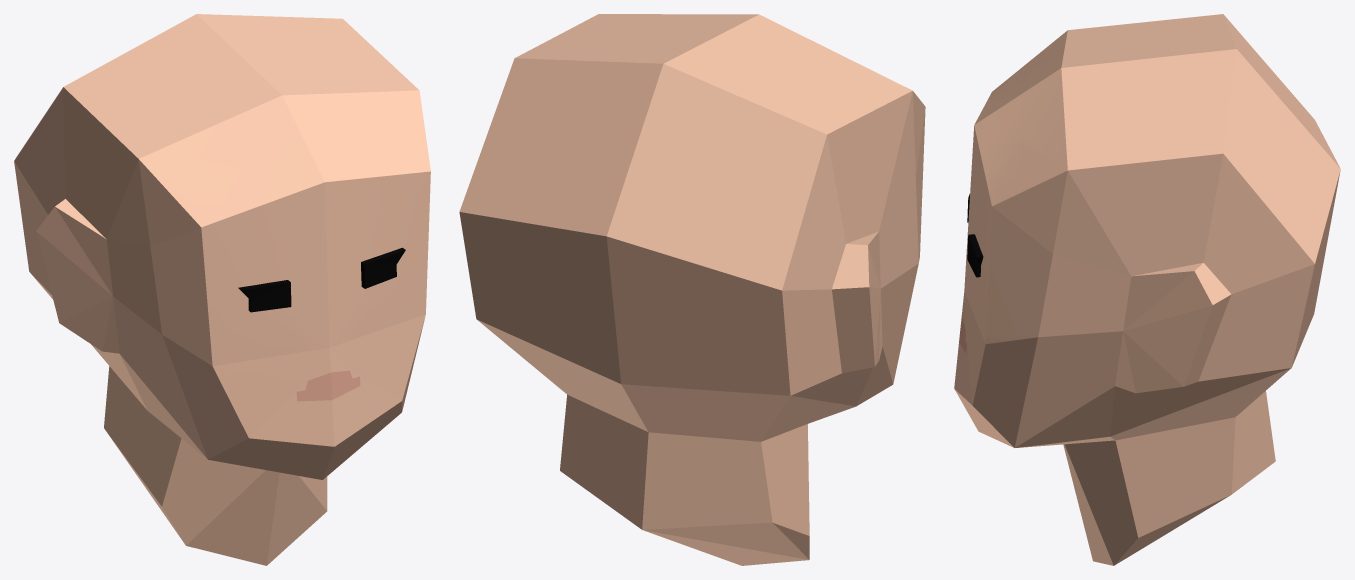
File: Chr_Head_Female_16_Static.fbx
3 renders of one model, left to right at view 1: azimuth 30°, elevation 25°; view 2: azimuth 150°, elevation 25°; view 3: azimuth 270°, elevation 25°, orthographic. The views are drawn at different scales.
Visible parts, largest first — view 1: Chr_Head_Female_16_Static; view 2: Chr_Head_Female_16_Static; view 3: Chr_Head_Female_16_Static.
Boxes of the visible parts, left/top/right/bottom form: Chr_Head_Female_16_Static: left=14, top=14, right=430, bottom=565; Chr_Head_Female_16_Static: left=459, top=14, right=925, bottom=565; Chr_Head_Female_16_Static: left=954, top=14, right=1340, bottom=565.
Size of the model in its own units: 0.2661 by 0.3693 by 0.2526.
